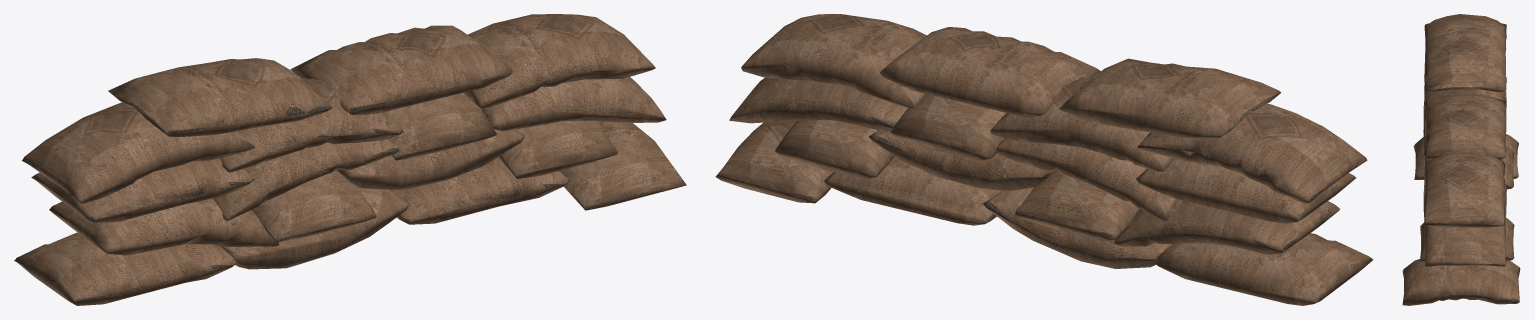
Rendered from base_sb_wall.glb.
The picture shows the model from 3 angles, left to right: view 1: azimuth 30°, elevation 25°; view 2: azimuth 150°, elevation 25°; view 3: azimuth 270°, elevation 25°; orthographic projection. The views are drawn at different scales.
Parts seen in each view (by area): view 1: base_sb_wall; view 2: base_sb_wall; view 3: base_sb_wall.
Part boxes in pixels (bbox=[...]): base_sb_wall: bbox=[14, 14, 686, 305]; base_sb_wall: bbox=[715, 14, 1373, 305]; base_sb_wall: bbox=[1402, 14, 1520, 305].
Size of the model in its own units: 3.34 by 1.08 by 0.8281.
1 material, 1 textured.
